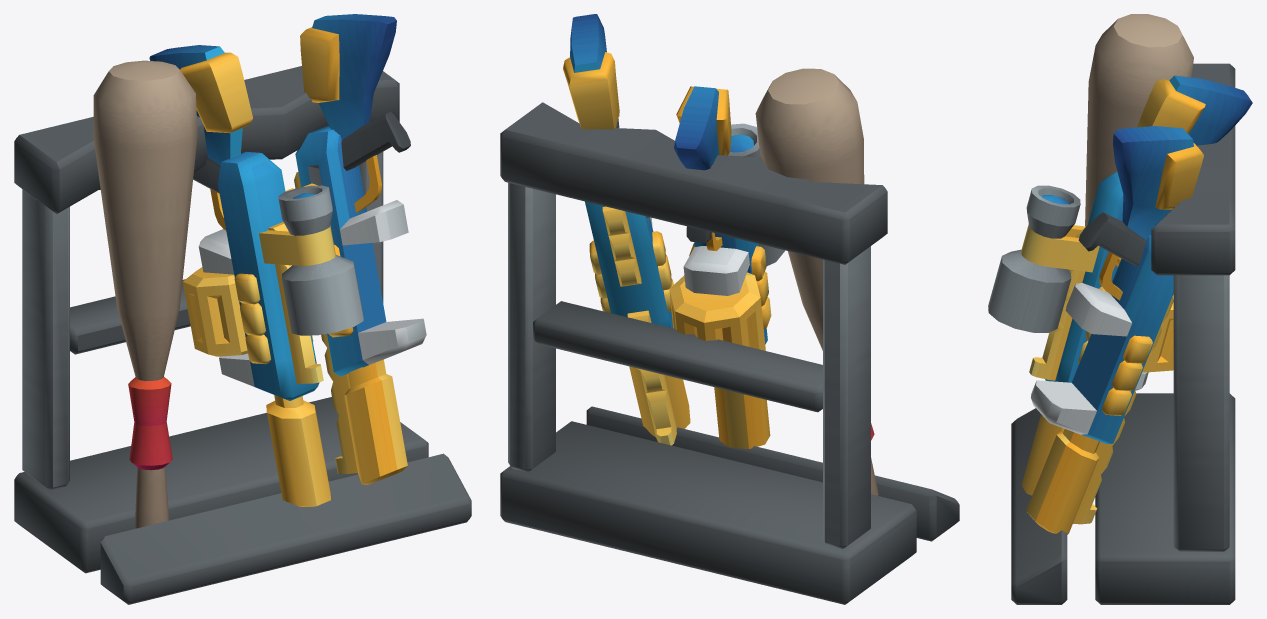
File: weaponrack-decorated.glb
3 renders of one model, left to right at view 1: azimuth 30°, elevation 25°; view 2: azimuth 150°, elevation 25°; view 3: azimuth 270°, elevation 25°, orthographic. The views are drawn at different scales.
Visible parts, largest first — view 1: Weaponrack_Decorated; view 2: Weaponrack_Decorated; view 3: Weaponrack_Decorated.
Part boxes in pixels (bbox=[...]): Weaponrack_Decorated: bbox=[14, 14, 471, 604]; Weaponrack_Decorated: bbox=[500, 14, 959, 604]; Weaponrack_Decorated: bbox=[988, 14, 1252, 604].
Bounding box in the file's own units: 1.4 × 1.81 × 0.9459.
Materials: 1 (1 with a texture image).
